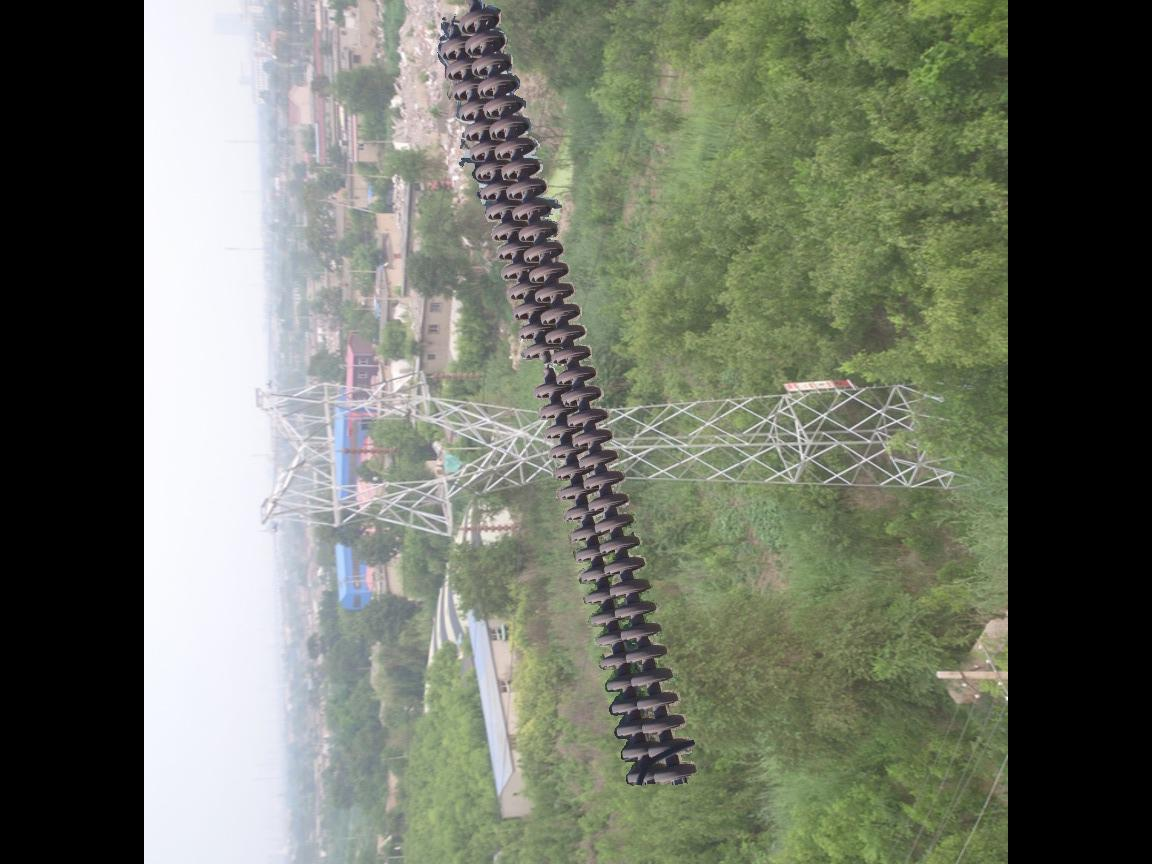insulator: (427, 1, 699, 794)
insulator_stringdrop: (518, 338, 568, 403)
